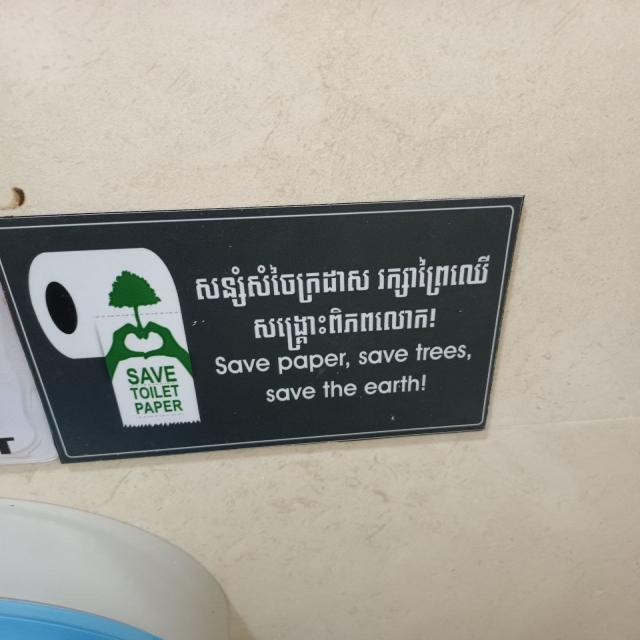1: (188, 247, 503, 314)
Yolov11kh: (250, 300, 446, 354)
